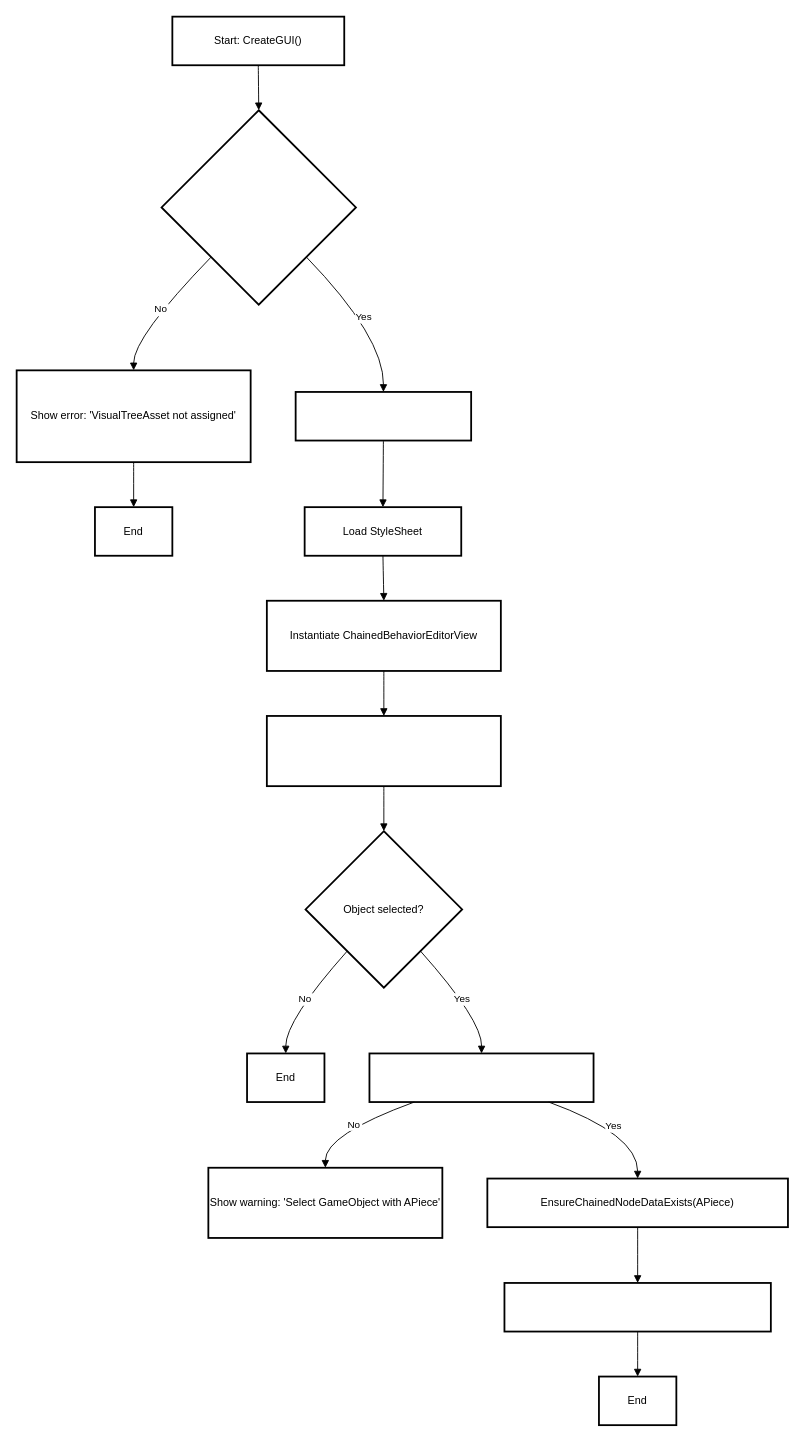
Some shapes in this 804 by 1441 pixel diagram are drawn without their labels. Here are the shapes that lost their labels. From the top down, the box of each, then its label:
(160, 109, 356, 305): VisualTreeAsset exists?
(294, 391, 472, 441): Clone visual layout
(266, 715, 501, 787): Invoke OnSelectionChange()
(368, 1052, 594, 1102): Check if object has APiece
(503, 1282, 771, 1332): PopulateView(ChainedNodeData)
